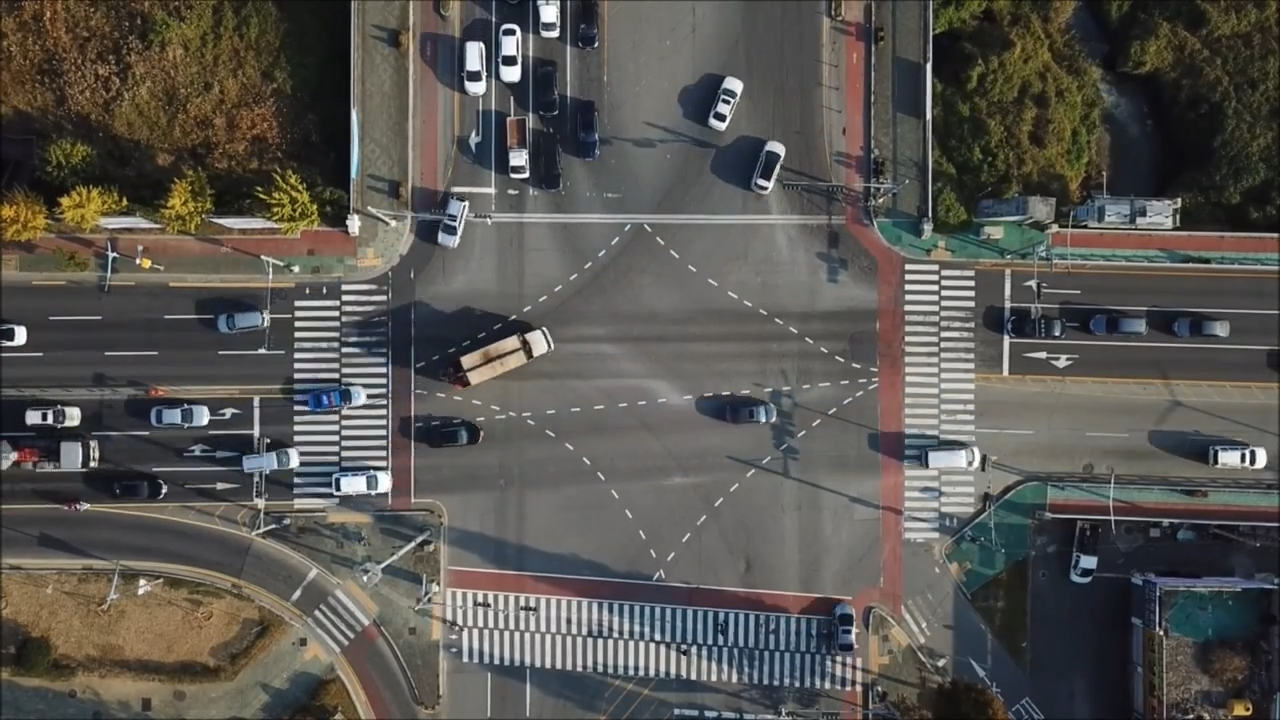car: (447, 326, 556, 393), (1, 434, 100, 472), (705, 77, 744, 131), (749, 137, 785, 194), (1067, 521, 1097, 586), (436, 199, 470, 252), (304, 384, 365, 413), (492, 21, 519, 85), (241, 446, 300, 474), (535, 124, 560, 189), (332, 471, 396, 496), (1002, 318, 1066, 342), (149, 402, 209, 427), (505, 117, 529, 179), (532, 60, 557, 119), (1208, 446, 1267, 471), (1091, 315, 1152, 339), (423, 423, 481, 448), (23, 405, 82, 429), (462, 39, 486, 98), (216, 310, 271, 335), (923, 447, 984, 469), (109, 478, 167, 501), (574, 102, 596, 162), (1169, 318, 1234, 338), (722, 404, 775, 427), (836, 602, 858, 657), (573, 1, 595, 50), (533, 1, 559, 36), (1, 322, 27, 347)
